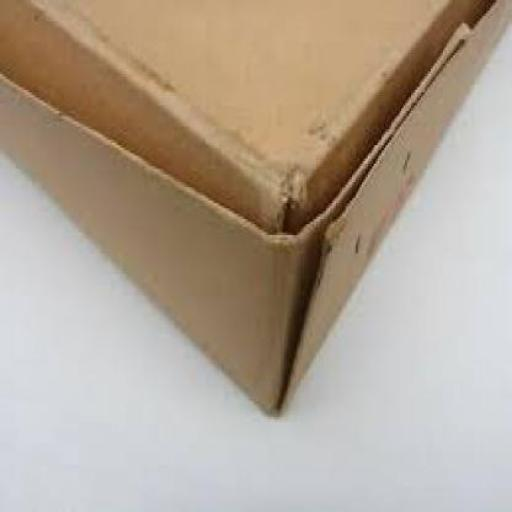cardboard: (0, 0, 511, 415)
